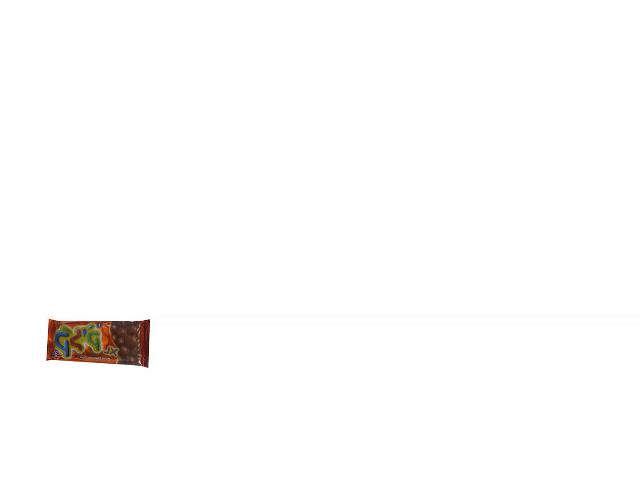chocolate: (46, 319, 149, 365)
